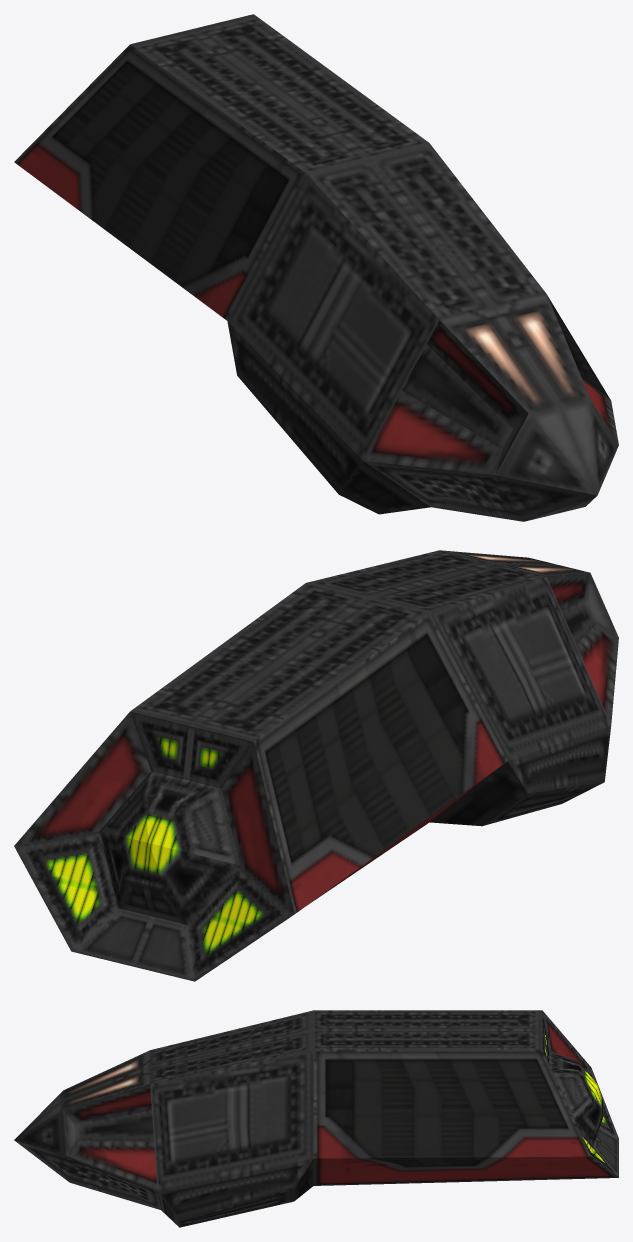
Rendered from BFP_Cockpit_04.FBX.
3 views of the same model, one above another, from view 1: azimuth 30°, elevation 25°; view 2: azimuth 150°, elevation 25°; view 3: azimuth 270°, elevation 25° (orthographic). The views are drawn at different scales.
Parts seen in each view (by area): view 1: BFP_Cockpit04; view 2: BFP_Cockpit04; view 3: BFP_Cockpit04.
Part boxes in pixels (x1,y1,x2,y2): BFP_Cockpit04: (14,14,618,521); BFP_Cockpit04: (14,550,618,981); BFP_Cockpit04: (14,1010,618,1227).
Bounding box in the file's own units: 23.38 × 19.91 × 64.71.
Materials: 1 (1 with a texture image).
